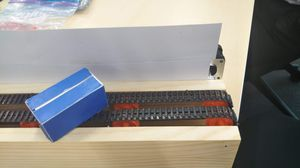box3: (23, 66, 109, 145)
